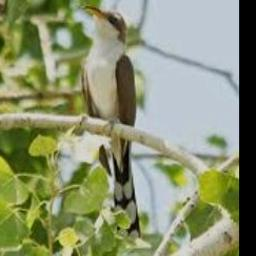Cuckoo: (80, 6, 141, 242)
